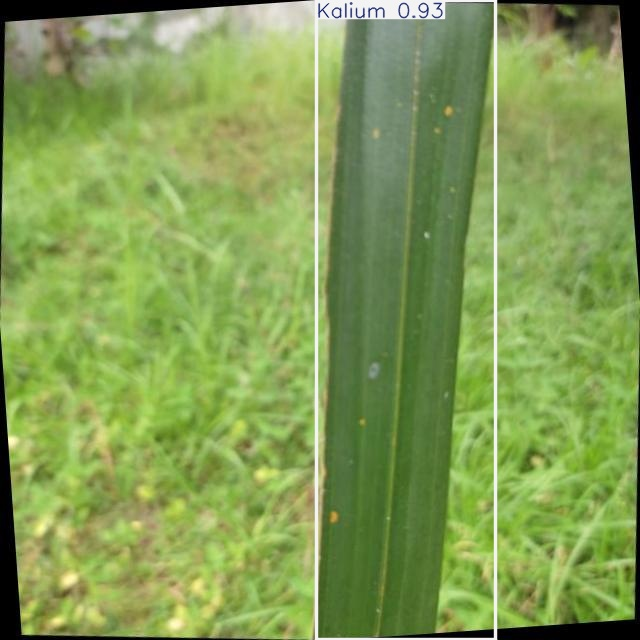Kalium: (317, 0, 496, 640)
